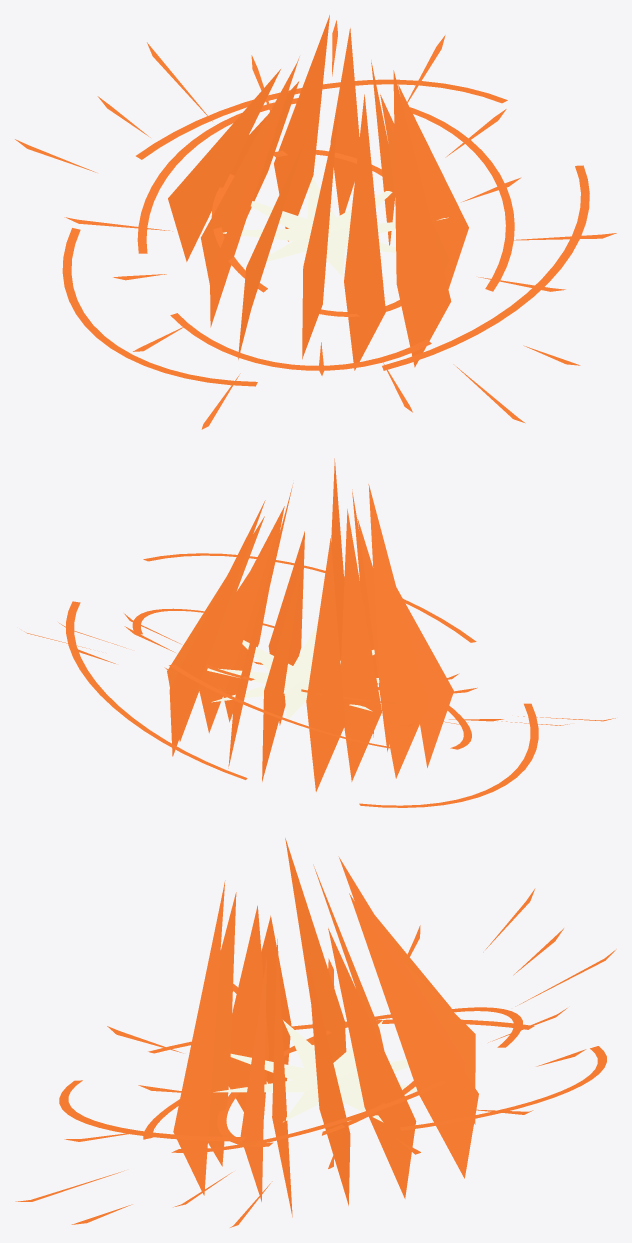
File: basketball.glb
3 renders of one model, top to bottom at view 1: azimuth 30°, elevation 25°; view 2: azimuth 150°, elevation 25°; view 3: azimuth 270°, elevation 25°, orthographic. The views are drawn at different scales.
Visible parts, largest first — view 1: OrbitRibbons.002, SparkRays.002, Core.002; view 2: OrbitRibbons.002, Core.002, SparkRays.002; view 3: OrbitRibbons.002, Core.002, SparkRays.002.
Part boxes in pixels (left/top/right/bottom): OrbitRibbons.002: left=62, top=15, right=589, bottom=386; SparkRays.002: left=15, top=20, right=616, bottom=429; Core.002: left=223, top=177, right=448, bottom=276; OrbitRibbons.002: left=66, top=458, right=538, bottom=807; Core.002: left=207, top=624, right=379, bottom=719; SparkRays.002: left=24, top=613, right=615, bottom=726; OrbitRibbons.002: left=59, top=838, right=606, bottom=1217; Core.002: left=213, top=1020, right=417, bottom=1122; SparkRays.002: left=15, top=888, right=616, bottom=1227.
Size of the model in its own units: 0.2359 by 0.1449 by 0.2406.
